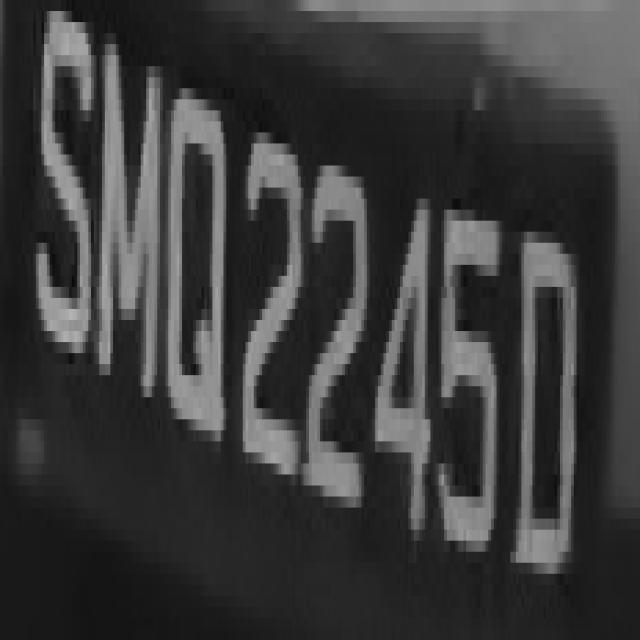2: (300, 154, 370, 540), (234, 121, 300, 530)
4: (370, 166, 430, 530)
5: (439, 121, 502, 585)
D: (516, 165, 579, 596)
M: (88, 11, 163, 475)
Q: (163, 55, 229, 519)
S: (25, 11, 94, 397)
